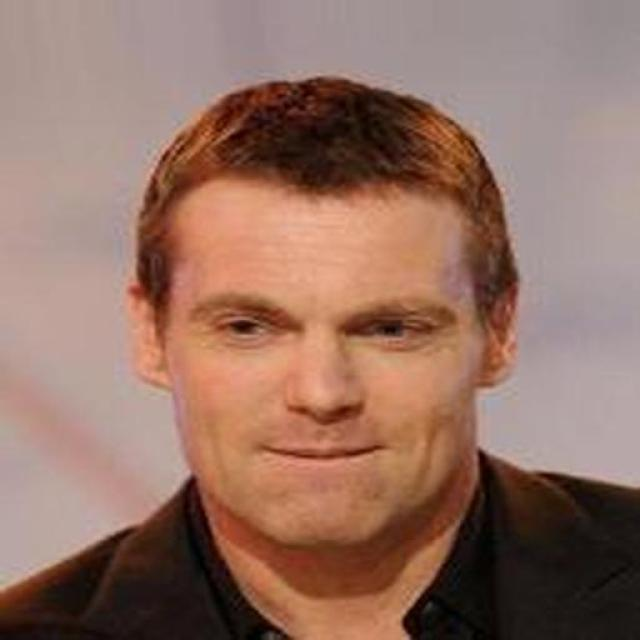bareface: (152, 84, 512, 550)
